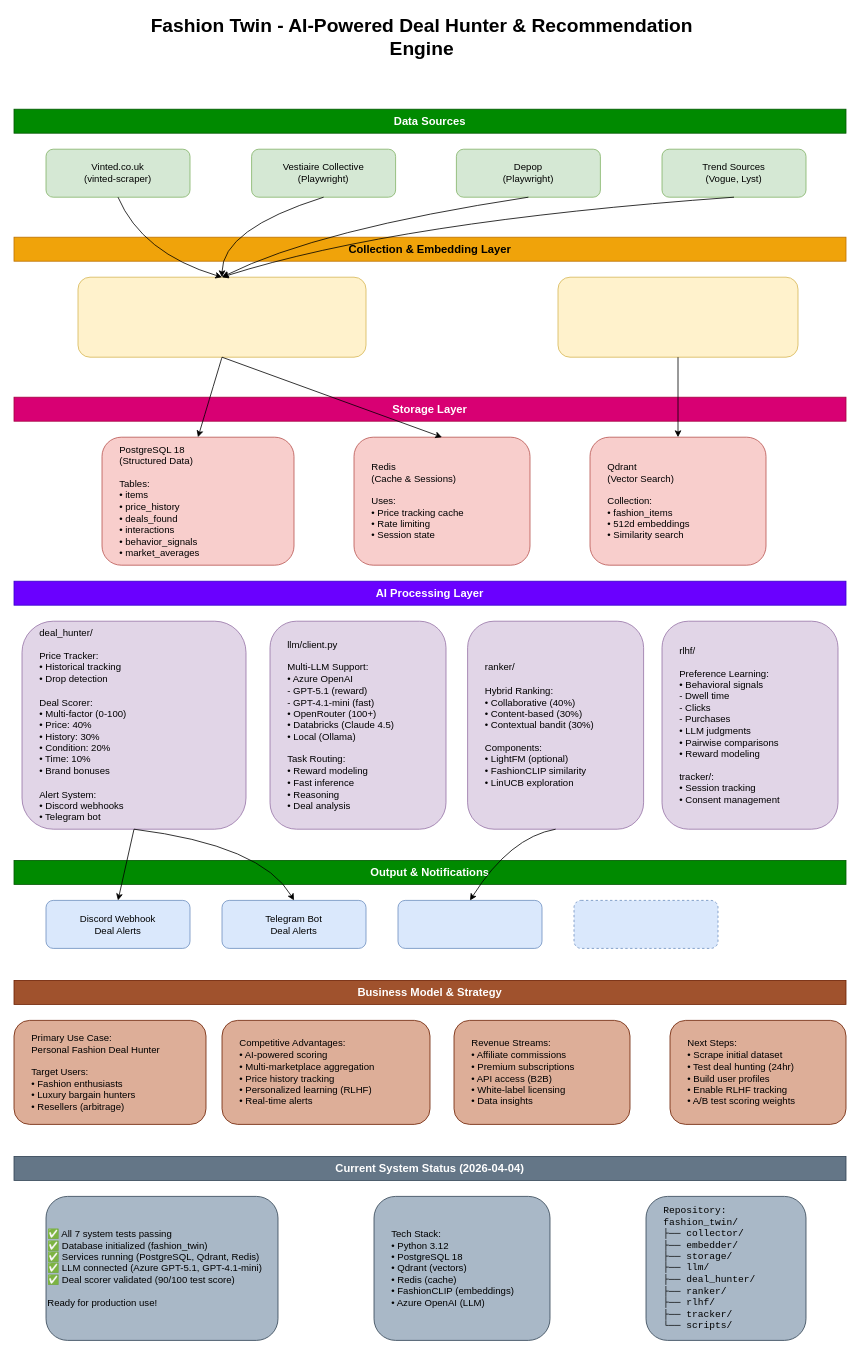
This 860x1354 diagram has some shape labels left out. The shapes that lost their labels are listed below. From the top down, each one's centre as x and y in pixels, then its label:
the point at 221,316: collector/ - vinted.py - vestiaire.py - depop.py - trend_scraper.py
the point at 677,316: embedder/ FashionCLIP (512d vectors) patrickjohncyh/fashion-clip
the point at 469,924: Personalized Feed Top-N Items
the point at 645,924: Analytics Dashboard (Future)
